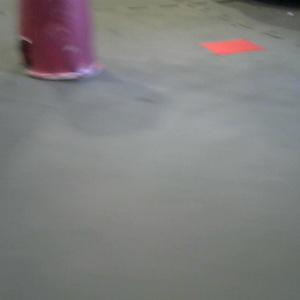right: (10, 1, 107, 90)
